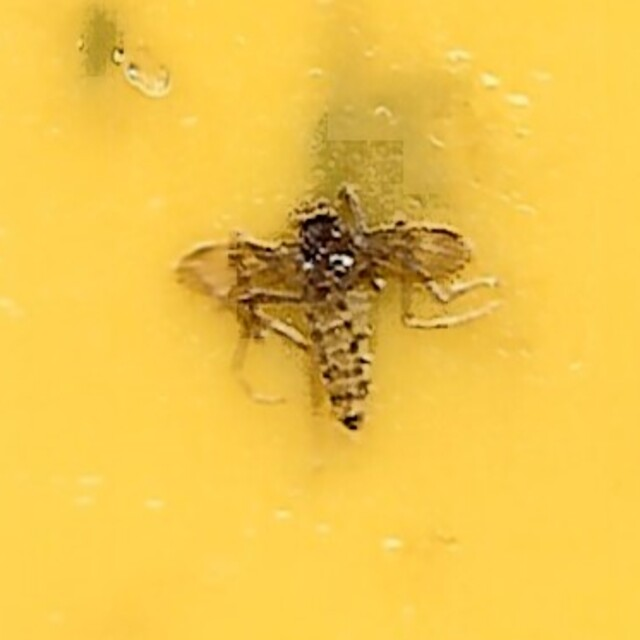Nematocera: (172, 206, 468, 434)
